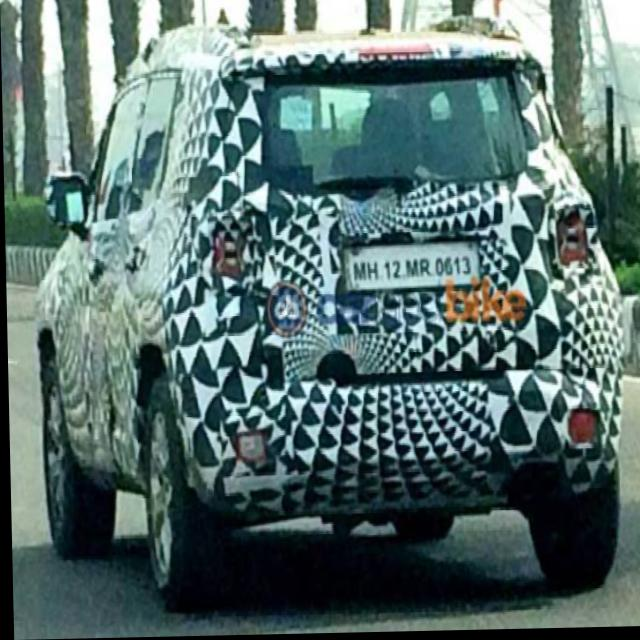licence: (339, 247, 477, 285)
